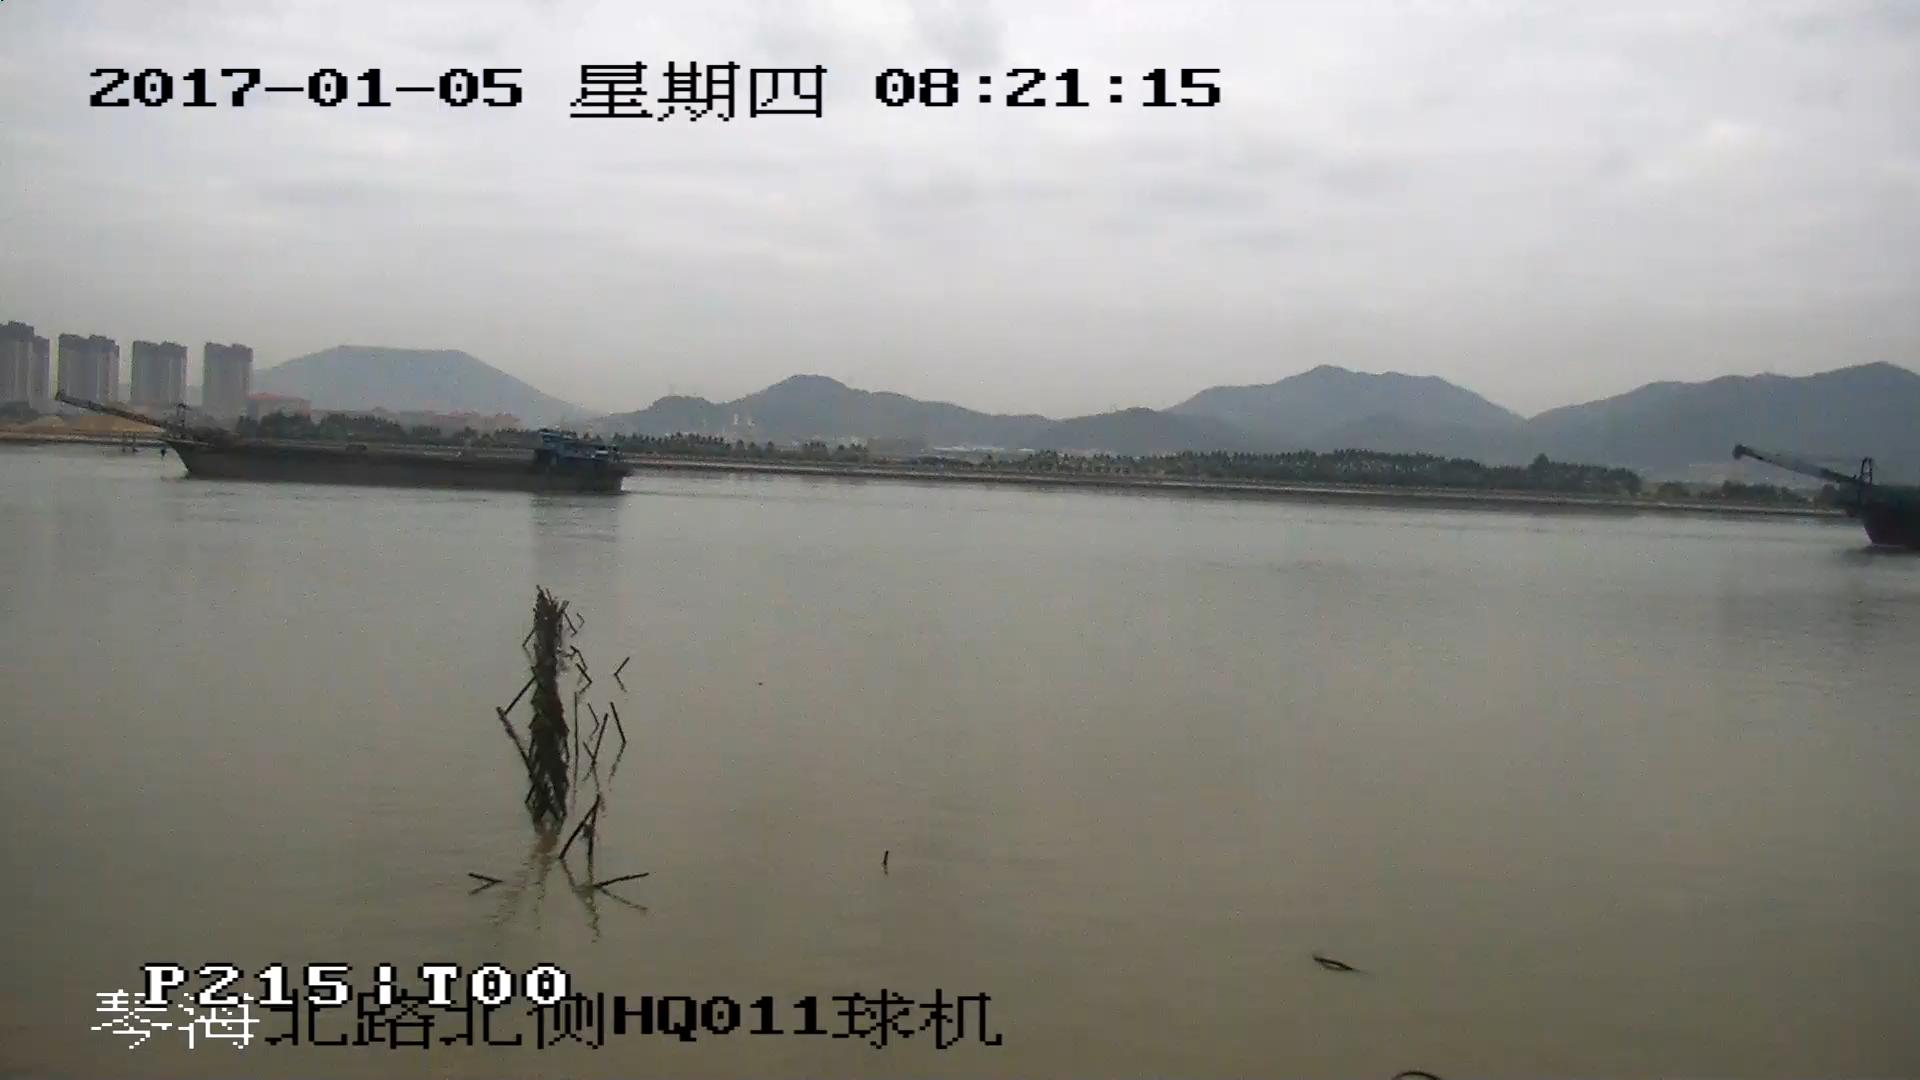bulk cargo carrier: (59, 392, 632, 491), (1741, 445, 1920, 556)
